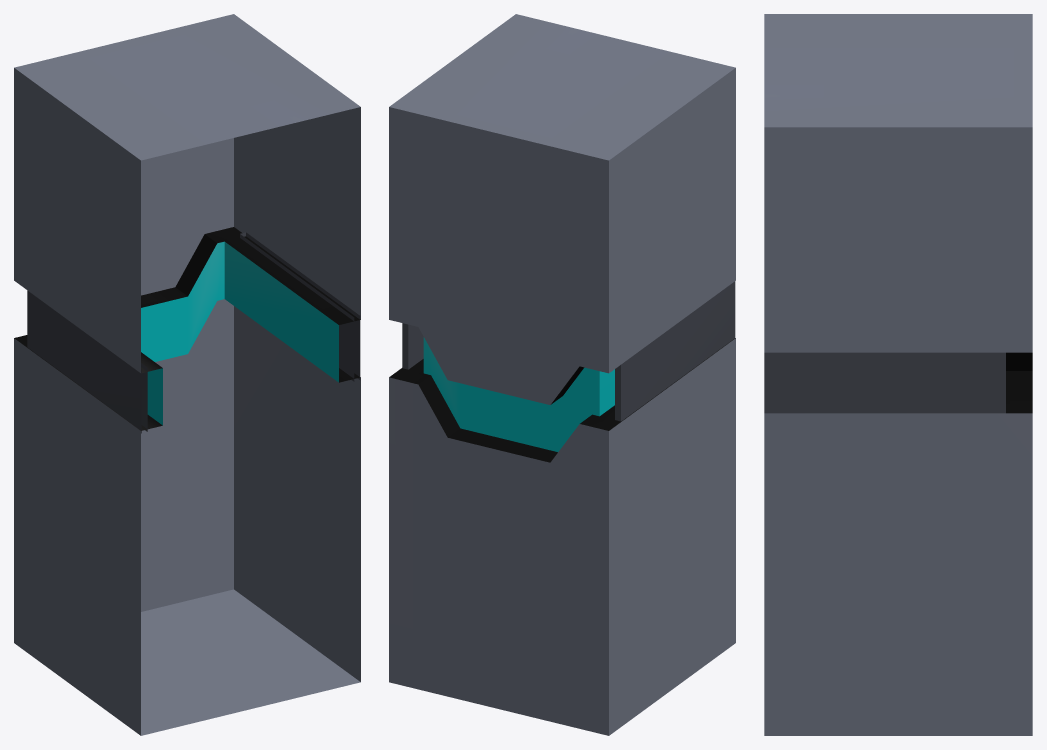
File: mothershipStructure.fbx
3 renders of one model, left to right at view 1: azimuth 30°, elevation 25°; view 2: azimuth 150°, elevation 25°; view 3: azimuth 270°, elevation 25°, orthographic. The views are drawn at different scales.
Parts seen in each view (by area): view 1: column; view 2: column; view 3: column.
Part boxes in pixels (x1,y1,x2,y2): column: (14,14,360,735); column: (389,14,735,735); column: (764,14,1032,735).
Bounding box in the file's own units: 200 × 500 × 200.
